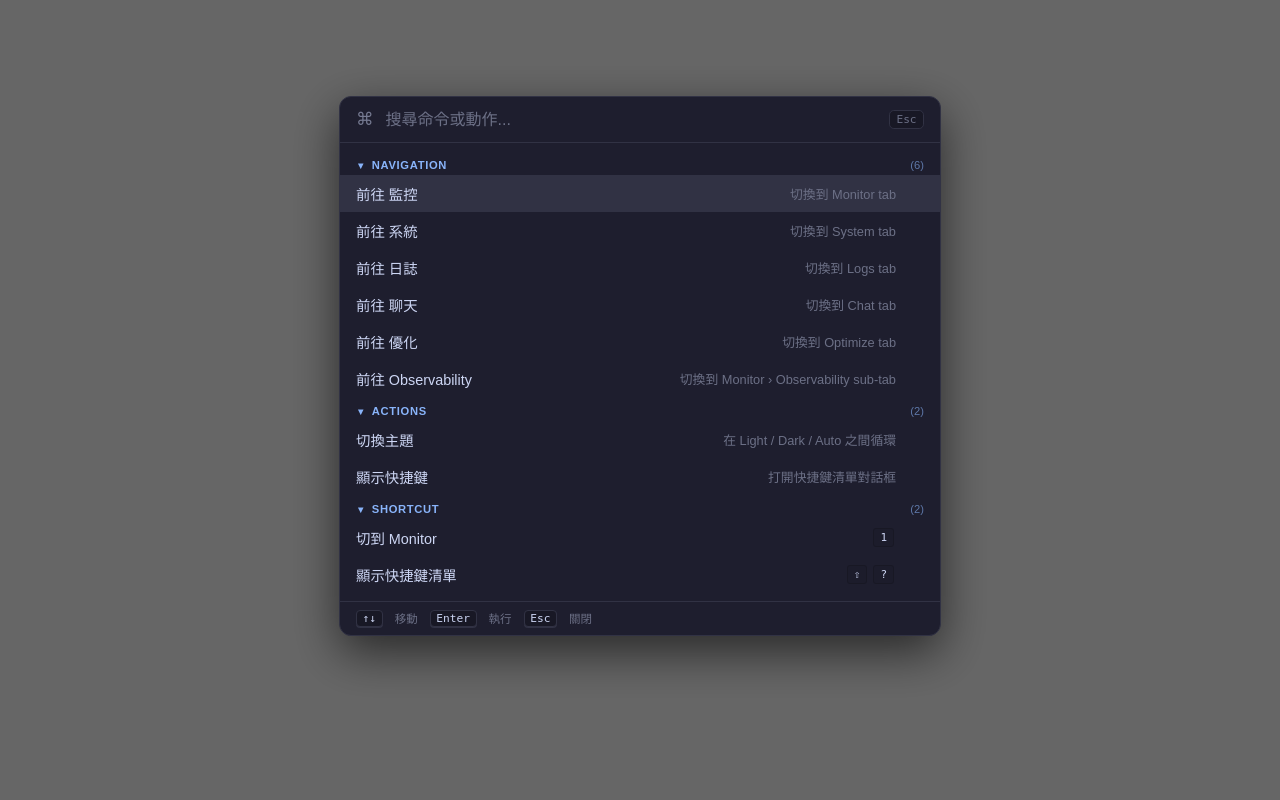
Test: CommandPalette › filters commands by query matching label
Step 1. Type "theme" into the field with class "cp-input" → (631, 120), box [384,110,879,130]
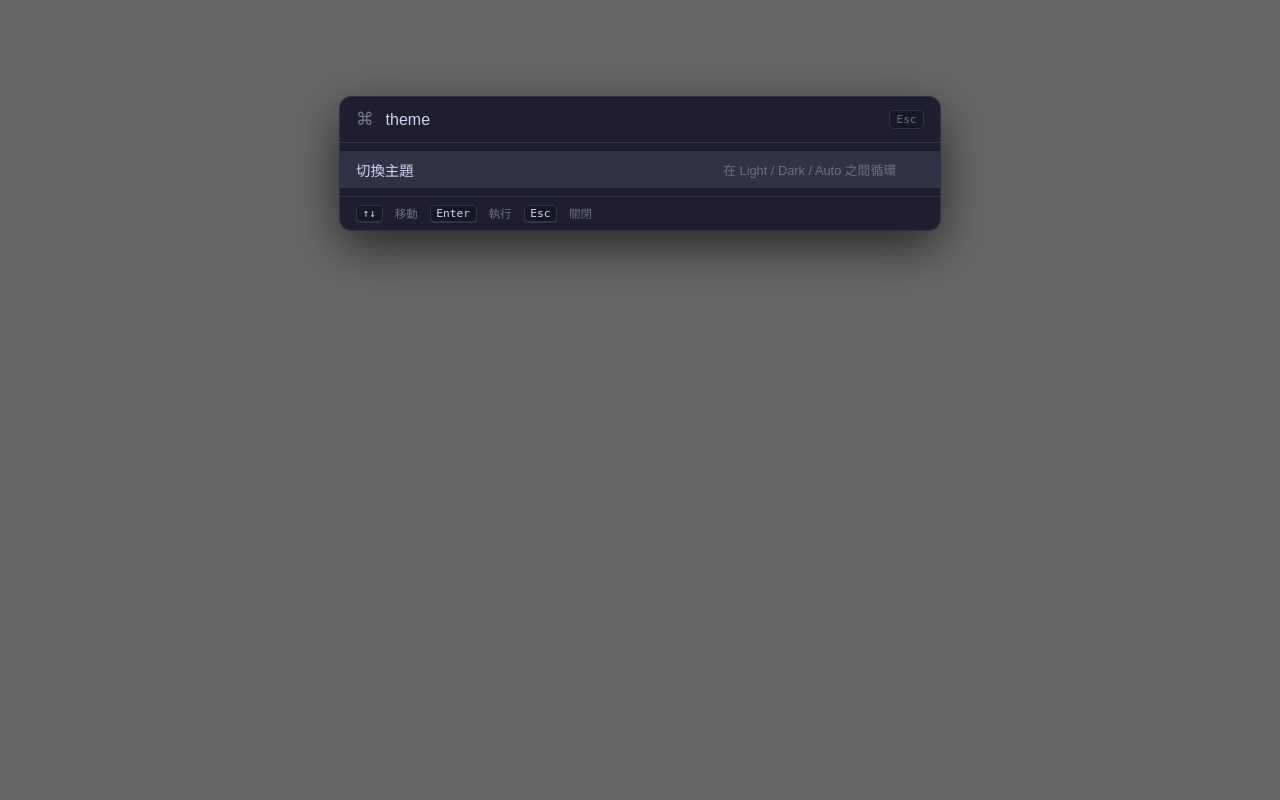
Expected: the option with class "cp-item" shows "切換主題", [340,151,940,188]
Now the number of options with class "cp-item" is 1, box [340,151,940,188]
